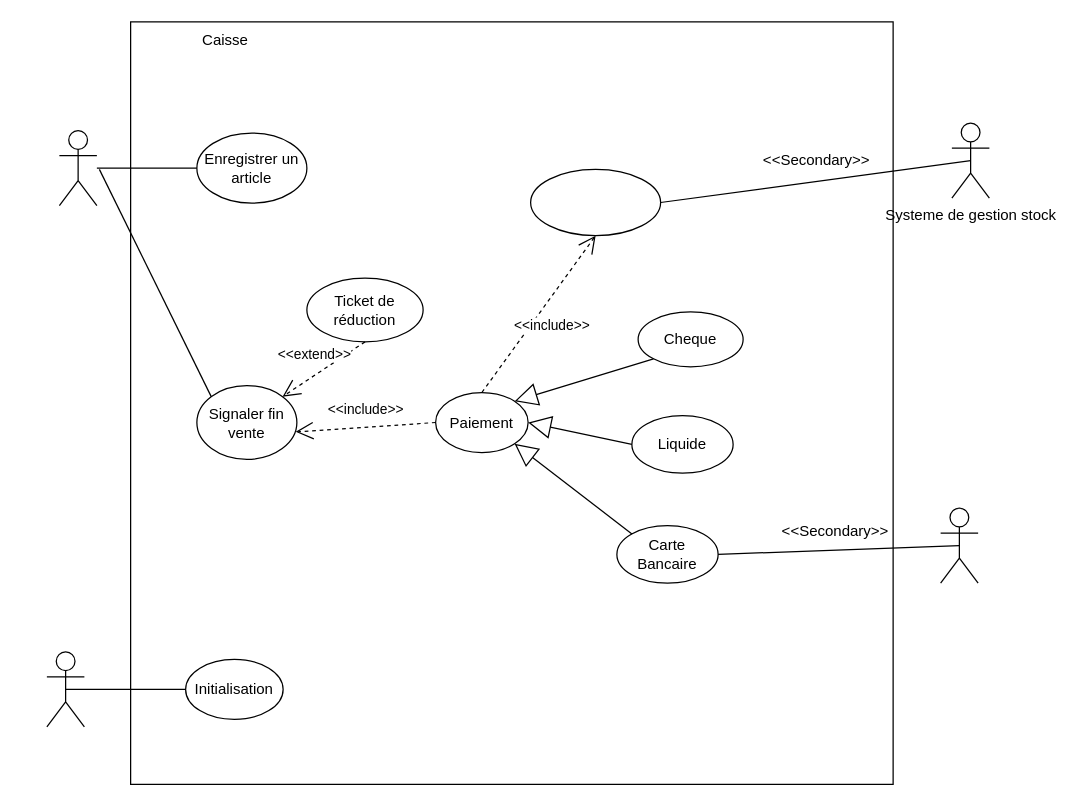
The diagram is 1078 pixels wide and 806 high, and some of its shapes have lost their labels. The box of each missing label's shape, as (x1, y1, x2, y2) in pixels:
Banque: (939, 507, 978, 583)
Caissier: (58, 129, 97, 206)
Responsable: (46, 651, 84, 727)
Transmission info: (529, 168, 661, 236)
